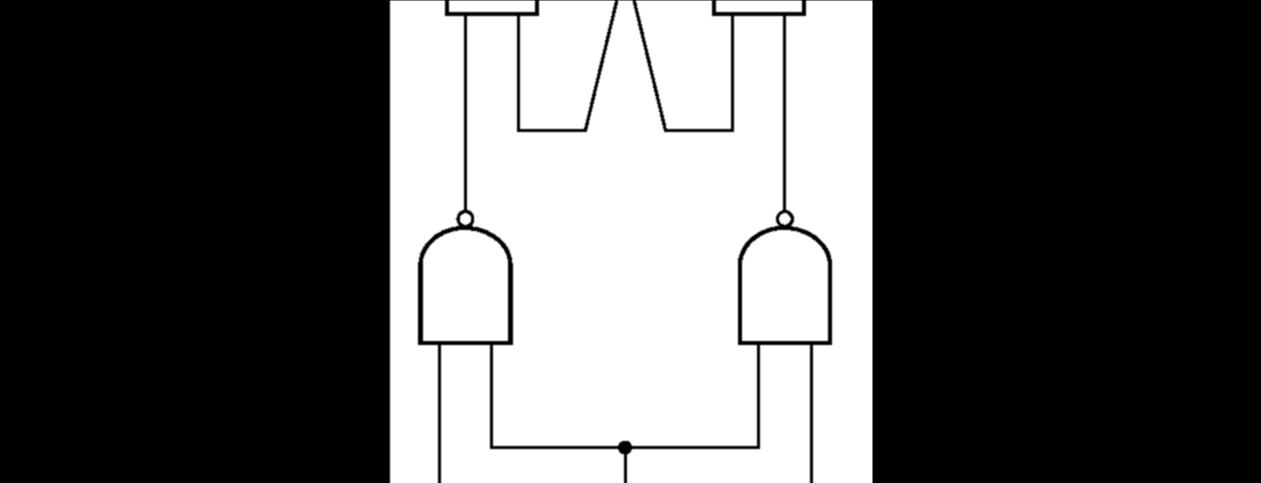nand: (402, 196, 522, 367), (727, 199, 840, 358)
